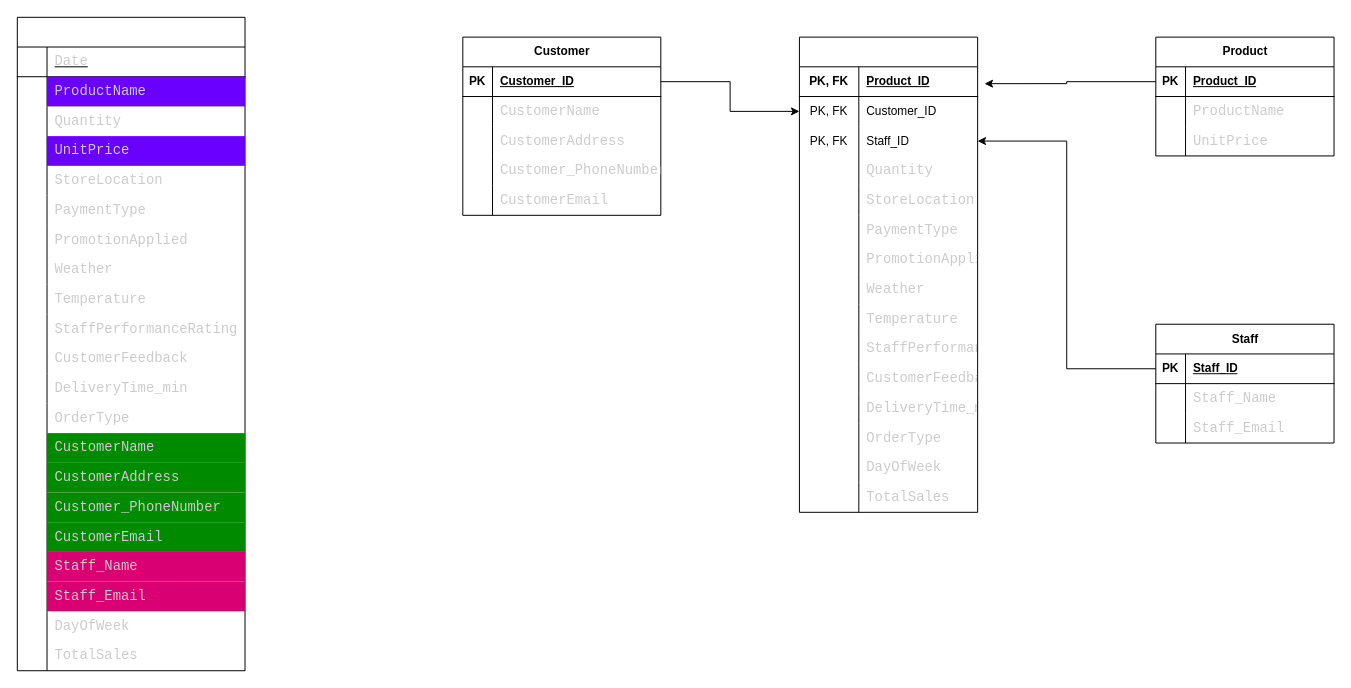
Some shapes in this 1351 by 688 pixel diagram are drawn without their labels. The box of each missing label's shape, as (x1, y1, x2, y2) in pixels:
Fact_table: (798, 36, 978, 512)
Table: (16, 16, 245, 671)
